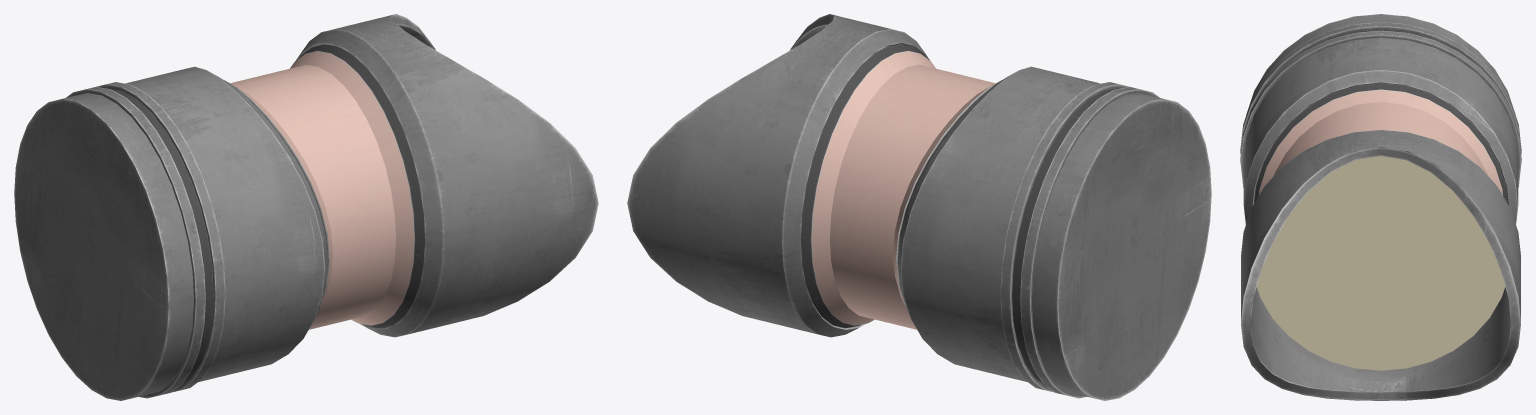
Rendered from guard_5_c_c.glb.
3 renders of one model, left to right at view 1: azimuth 30°, elevation 25°; view 2: azimuth 150°, elevation 25°; view 3: azimuth 270°, elevation 25°, orthographic. The views are drawn at different scales.
Visible parts, largest first — view 1: guard_5_c_c_lod0; view 2: guard_5_c_c_lod0; view 3: guard_5_c_c_lod0.
Boxes of the visible parts, bbox=[...] form: guard_5_c_c_lod0: bbox=[14, 14, 598, 400]; guard_5_c_c_lod0: bbox=[627, 14, 1211, 400]; guard_5_c_c_lod0: bbox=[1240, 14, 1521, 400].
Size of what is drawn, in the model's own units: 0.0477 by 0.0305 by 0.0305.
1 material, 1 textured.
